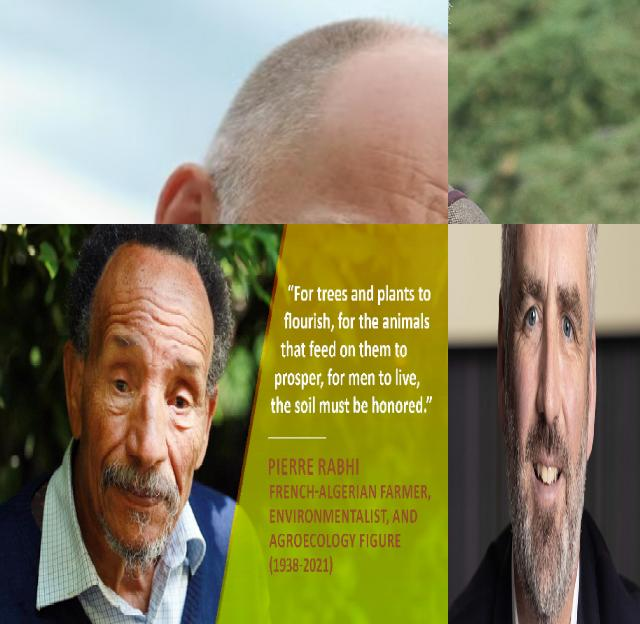crows_feet: (514, 319, 522, 360), (576, 331, 582, 365)
forehead: (416, 174, 448, 224), (104, 300, 127, 330), (189, 320, 207, 355), (174, 308, 189, 348), (131, 292, 149, 325), (151, 305, 174, 330)
frown_line: (545, 261, 551, 308)
gummy_smile: (99, 437, 118, 468), (167, 451, 183, 486), (561, 401, 568, 435)
